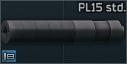PL-15 9x19 sound suppressor: (0, 0, 127, 64)
